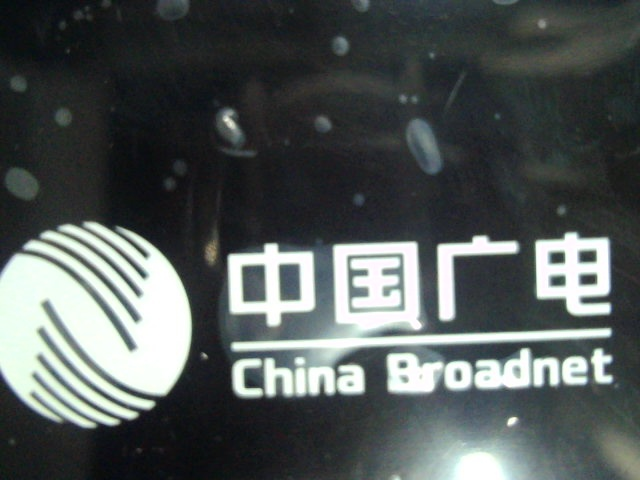AW_ChinaBroadNet: (3, 212, 625, 425)
